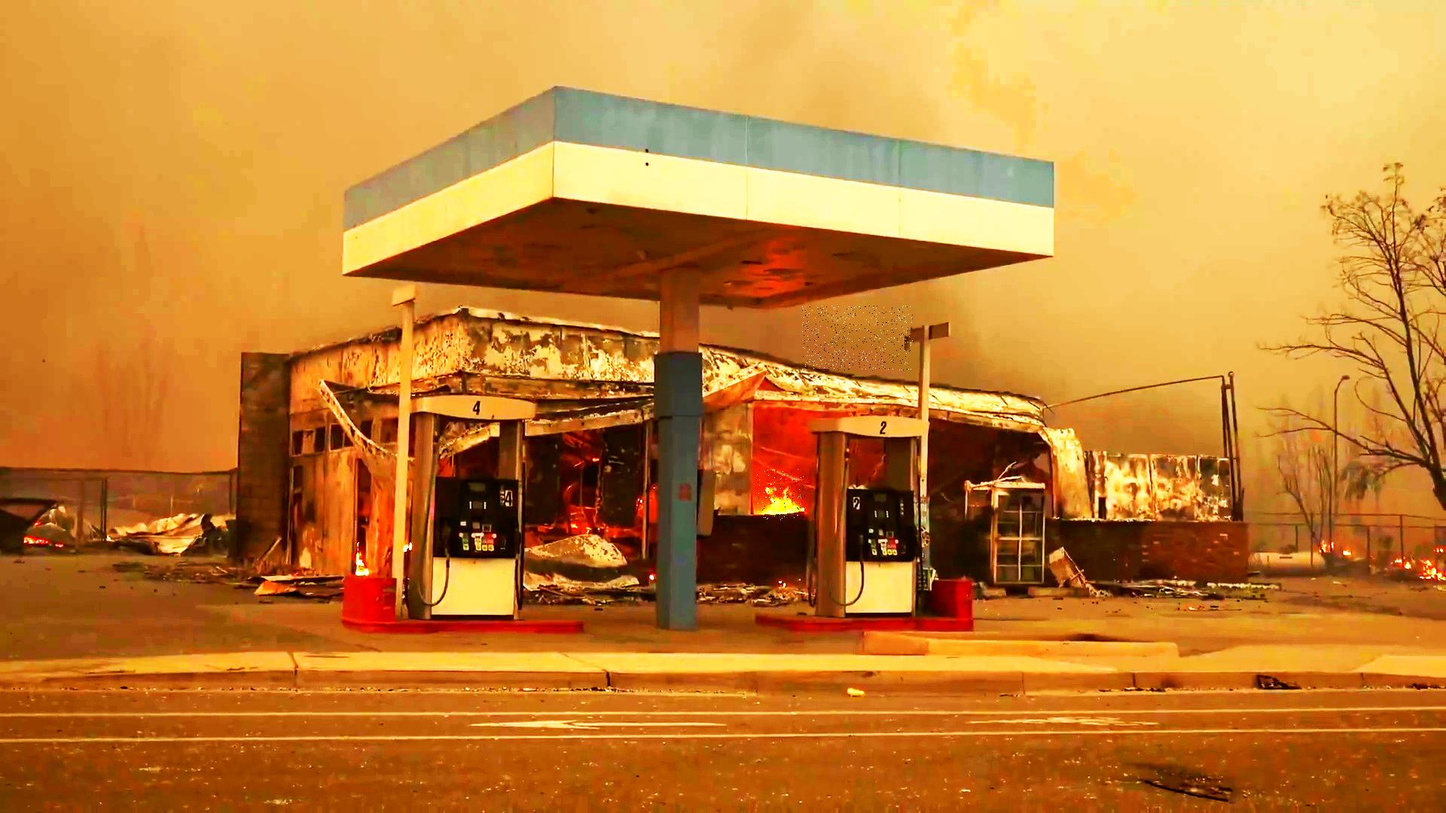fire: (757, 469, 806, 521)
smoke: (803, 306, 913, 371)
